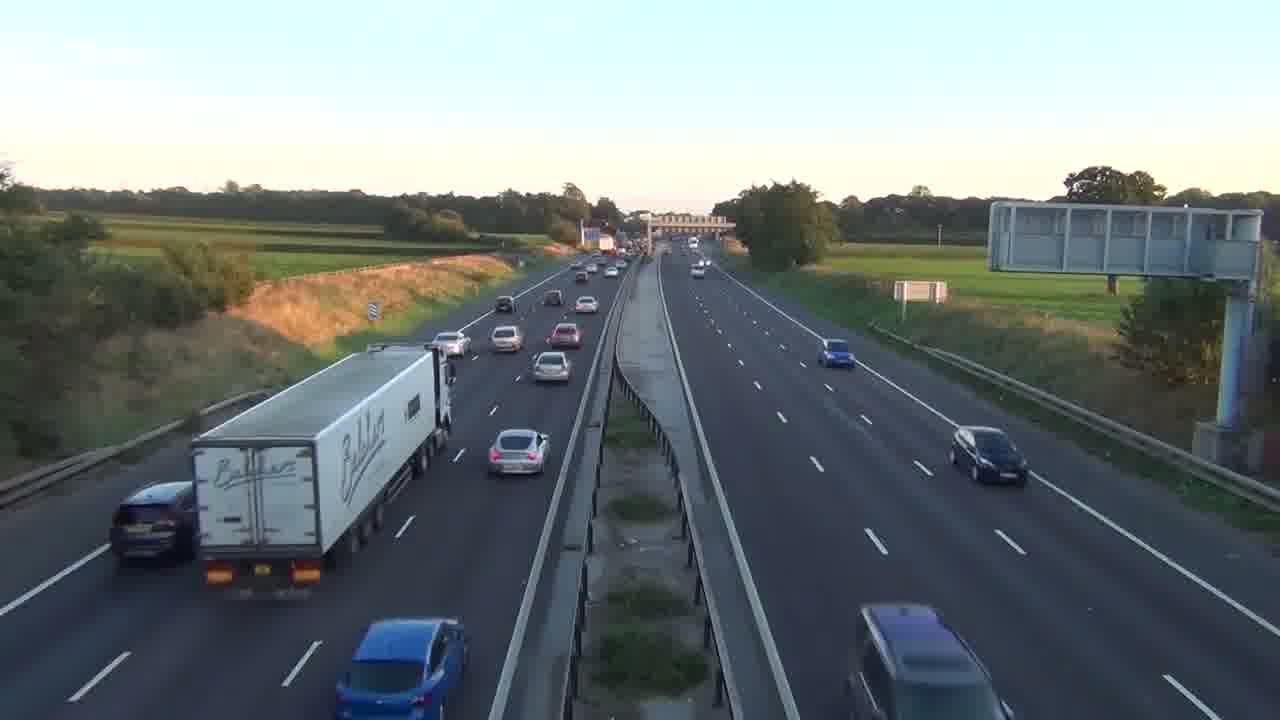car: (334, 615, 469, 719), (949, 424, 1028, 486), (486, 428, 550, 478), (531, 349, 571, 385), (816, 338, 855, 369), (490, 323, 524, 354), (547, 322, 583, 351), (574, 295, 599, 313)
truck: (190, 343, 451, 591), (846, 601, 1015, 719)
